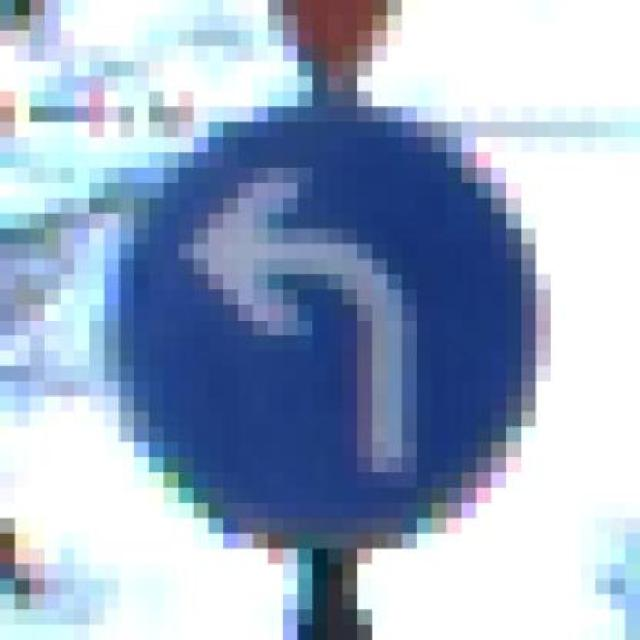Turn left ahead: (104, 91, 565, 564)
